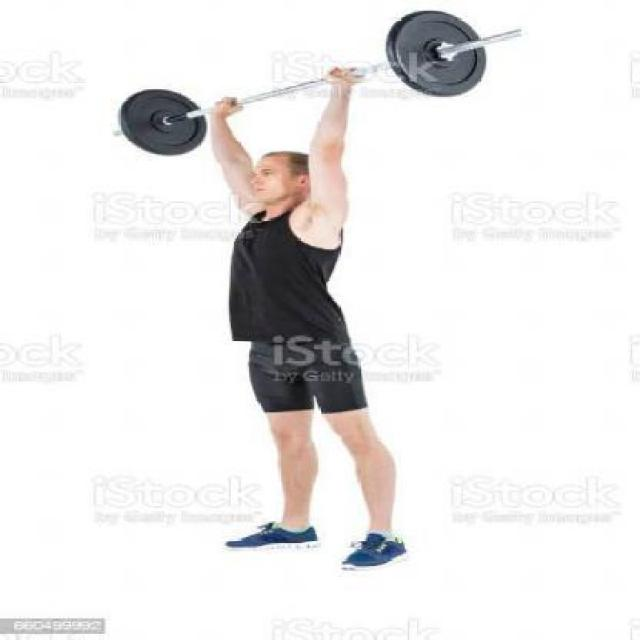barbell: (386, 11, 531, 96)
